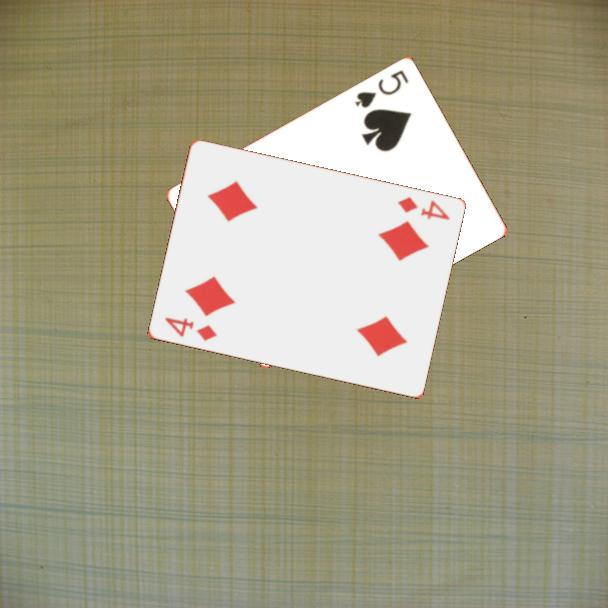d04: (161, 314, 220, 344), (394, 193, 452, 223)
s05: (351, 66, 412, 111)
